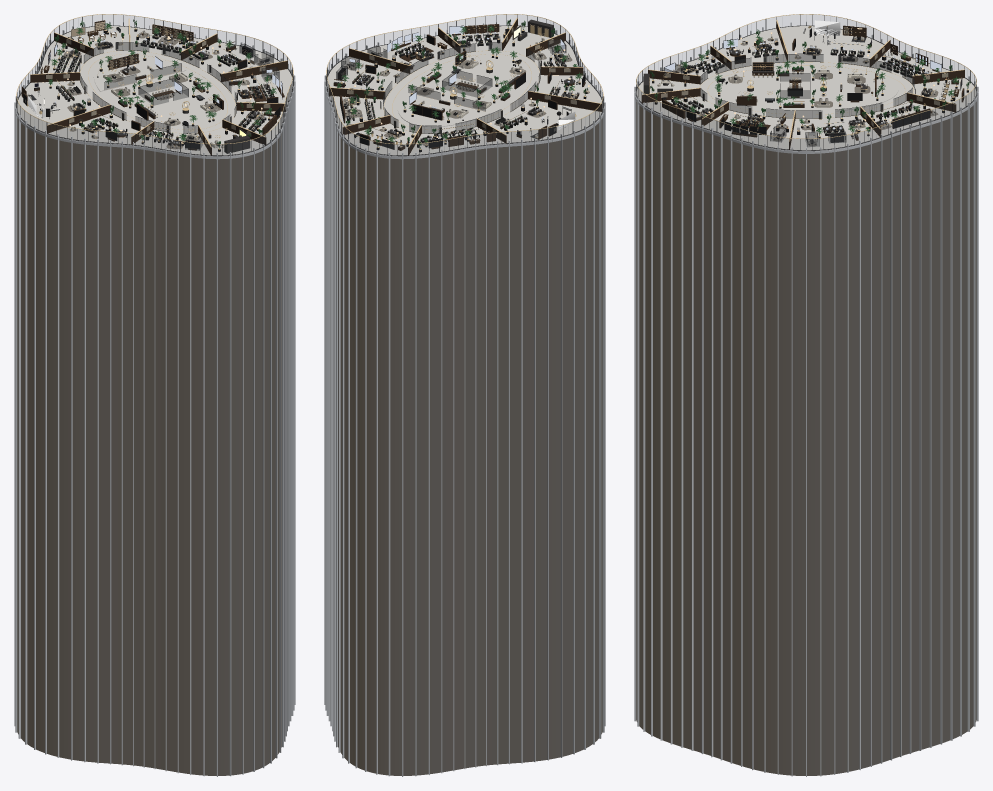
File: office-environment.glb
3 views of the same model, side by side, from view 1: azimuth 30°, elevation 25°; view 2: azimuth 150°, elevation 25°; view 3: azimuth 270°, elevation 25° (orthographic).
Visible parts, largest first — view 1: Tower body · lit windows, Facade fins & cornice, Curtain wall, Atrium · Floor, CON · Floor, MAX · Executive platform, WEB · Floor, CE · Floor, ADS · Floor, GD · Floor, BRN · Floor, CON · Walls (+10 smaller); view 2: Tower body · lit windows, Facade fins & cornice, Curtain wall, Atrium · Floor, CON · Floor, MAX · Executive platform, WEB · Floor, ADS · Floor, GD · Floor, CE · Floor, CON · Walls, ADS · Walls (+9 smaller); view 3: Tower body · lit windows, Facade fins & cornice, Curtain wall, Atrium · Floor, CON · Floor, WEB · Floor, MAX · Executive platform, ADS · Floor, CE · Floor, GD · Floor, BRN · Floor, CON · Walls (+5 smaller).
Part boxes in pixels (bbox=[...]): Tower body · lit windows: bbox=[17, 118, 281, 775]; Facade fins & cornice: bbox=[14, 21, 295, 776]; Curtain wall: bbox=[16, 14, 293, 155]; Atrium · Floor: bbox=[80, 50, 236, 133]; CON · Floor: bbox=[17, 80, 101, 132]; MAX · Executive platform: bbox=[93, 56, 185, 91]; WEB · Floor: bbox=[182, 42, 279, 81]; CE · Floor: bbox=[48, 113, 144, 144]; ADS · Floor: bbox=[222, 69, 292, 109]; GD · Floor: bbox=[62, 26, 129, 55]; BRN · Floor: bbox=[130, 27, 203, 59]; CON · Walls: bbox=[47, 73, 110, 133]; Tower body · lit windows: bbox=[338, 118, 602, 775]; Facade fins & cornice: bbox=[324, 22, 605, 776]; Curtain wall: bbox=[326, 14, 603, 155]; Atrium · Floor: bbox=[383, 50, 540, 133]; CON · Floor: bbox=[487, 99, 601, 142]; MAX · Executive platform: bbox=[397, 92, 489, 127]; WEB · Floor: bbox=[327, 57, 408, 97]; ADS · Floor: bbox=[362, 36, 458, 72]; GD · Floor: bbox=[344, 123, 415, 155]; CE · Floor: bbox=[535, 75, 602, 108]; CON · Walls: bbox=[478, 91, 602, 123]; ADS · Walls: bbox=[349, 46, 460, 73]; Tower body · lit windows: bbox=[636, 101, 976, 775]; Facade fins & cornice: bbox=[634, 21, 978, 776]; Curtain wall: bbox=[636, 14, 976, 150]; Atrium · Floor: bbox=[699, 62, 914, 118]; CON · Floor: bbox=[780, 26, 883, 66]; WEB · Floor: bbox=[790, 115, 879, 150]; MAX · Executive platform: bbox=[836, 68, 898, 111]; ADS · Floor: bbox=[703, 110, 792, 149]; CE · Floor: bbox=[718, 28, 786, 69]; GD · Floor: bbox=[913, 78, 976, 111]; BRN · Floor: bbox=[868, 101, 954, 136]; CON · Walls: bbox=[776, 20, 869, 67].
Size of what is drawn, in the model's own units: 80.31 by 189 by 92.3.
